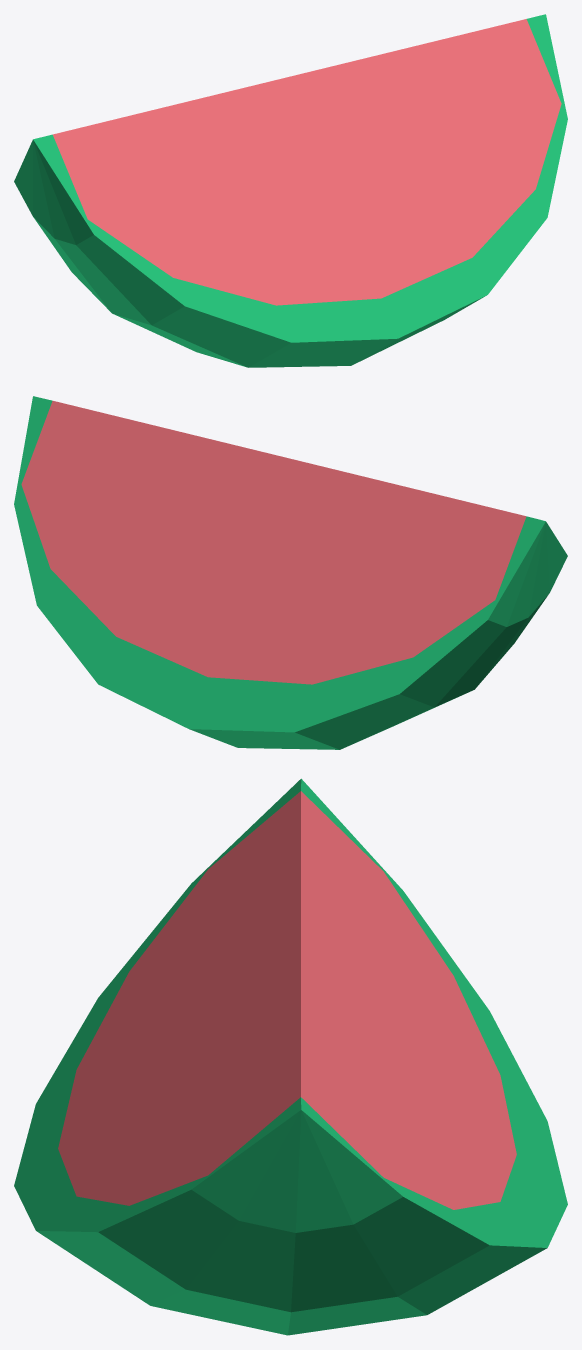
Rendered from watermelon.glb.
3 renders of one model, top to bottom at view 1: azimuth 30°, elevation 25°; view 2: azimuth 150°, elevation 25°; view 3: azimuth 270°, elevation 25°, orthographic. The views are drawn at different scales.
Visible parts, largest first — view 1: watermelon; view 2: watermelon; view 3: watermelon.
Boxes of the visible parts, box(x1,y1,x2,y2) form: watermelon: box(14, 14, 567, 367); watermelon: box(14, 396, 567, 749); watermelon: box(14, 778, 567, 1335).
Bounding box in the file's own units: 2 × 0.9997 × 1.41.
1 material, 1 textured.
